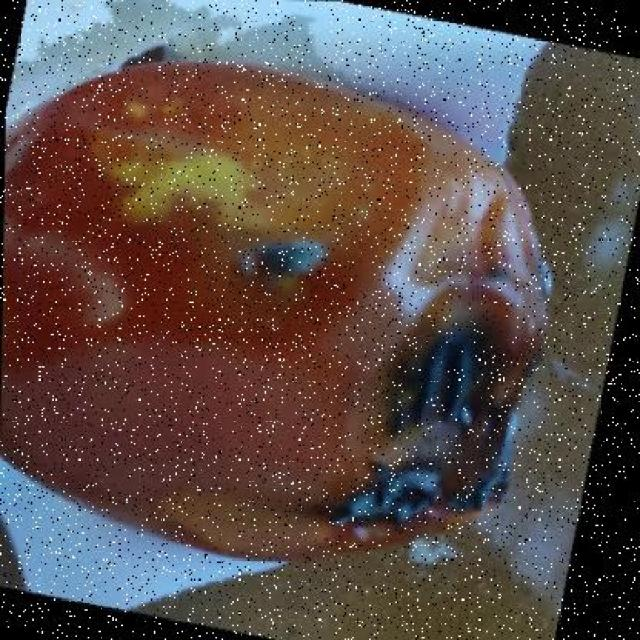overripe tomato: (0, 47, 562, 577)
